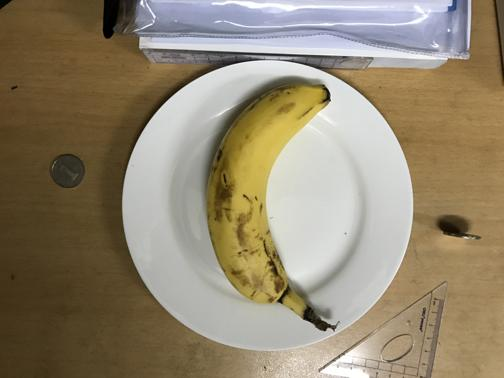banana: (203, 81, 327, 310)
coin: (50, 152, 86, 188)
